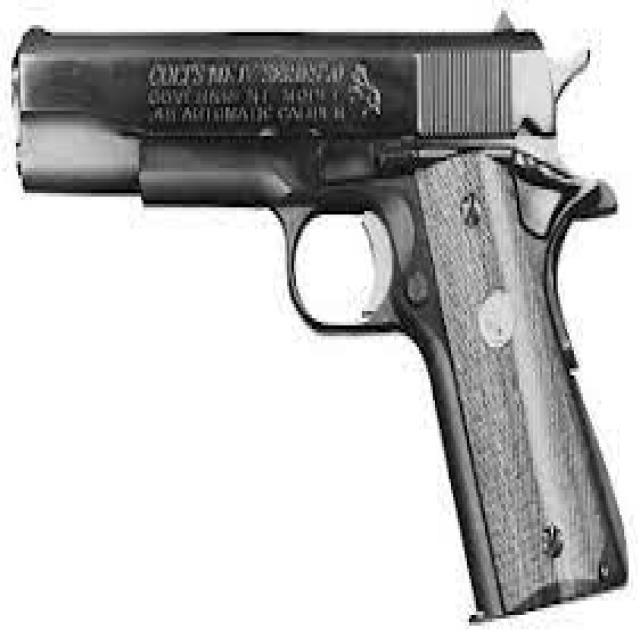semi automatic: (8, 11, 634, 634)
